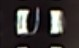COMP: (9, 5, 73, 40)
GAP: (17, 22, 64, 48)
STAN: (32, 7, 42, 35), (29, 25, 39, 35)
